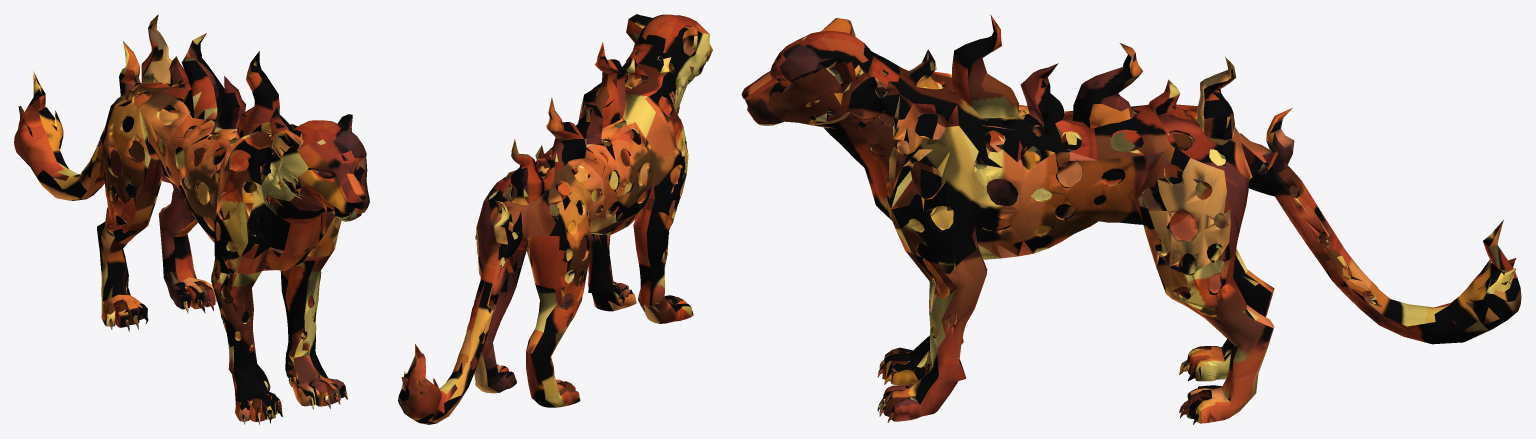
Rendered from creature_cheetah_fire.fbx.
The picture shows the model from 3 angles, left to right: view 1: azimuth 30°, elevation 25°; view 2: azimuth 150°, elevation 25°; view 3: azimuth 270°, elevation 25°; orthographic projection. The views are drawn at different scales.
Visible parts, largest first — view 1: creature_cheetah_fire_body, creature_cheetah_fire_head, creature_cheetah_fire_leg_fl, creature_cheetah_fire_leg_fr, creature_cheetah_fire_leg_br, creature_cheetah_fire_tail, creature_cheetah_fire_leg_bl; view 2: creature_cheetah_fire_body, creature_cheetah_fire_leg_br, creature_cheetah_fire_head, creature_cheetah_fire_tail, creature_cheetah_fire_leg_fr, creature_cheetah_fire_leg_bl, creature_cheetah_fire_leg_fl; view 3: creature_cheetah_fire_body, creature_cheetah_fire_head, creature_cheetah_fire_leg_bl, creature_cheetah_fire_leg_fl, creature_cheetah_fire_tail, creature_cheetah_fire_leg_br, creature_cheetah_fire_leg_fr.
Boxes of the visible parts, x1=… form: creature_cheetah_fire_body: x1=100, y1=14, x2=338, y2=274; creature_cheetah_fire_head: x1=241, y1=114, x2=369, y2=259; creature_cheetah_fire_leg_fl: x1=280, y1=250, x2=347, y2=409; creature_cheetah_fire_leg_fr: x1=205, y1=231, x2=284, y2=424; creature_cheetah_fire_leg_br: x1=28, y1=140, x2=155, y2=331; creature_cheetah_fire_tail: x1=14, y1=71, x2=104, y2=199; creature_cheetah_fire_leg_bl: x1=159, y1=186, x2=216, y2=313; creature_cheetah_fire_body: x1=475, y1=42, x2=688, y2=306; creature_cheetah_fire_leg_br: x1=412, y1=273, x2=586, y2=424; creature_cheetah_fire_head: x1=623, y1=14, x2=712, y2=152; creature_cheetah_fire_tail: x1=398, y1=282, x2=492, y2=420; creature_cheetah_fire_leg_fr: x1=590, y1=195, x2=693, y2=323; creature_cheetah_fire_leg_bl: x1=474, y1=255, x2=523, y2=393; creature_cheetah_fire_leg_fl: x1=588, y1=233, x2=636, y2=311; creature_cheetah_fire_body: x1=879, y1=14, x2=1331, y2=268; creature_cheetah_fire_head: x1=741, y1=18, x2=901, y2=229; creature_cheetah_fire_leg_bl: x1=1157, y1=236, x2=1505, y2=424; creature_cheetah_fire_leg_fl: x1=877, y1=240, x2=1047, y2=422; creature_cheetah_fire_tail: x1=1318, y1=207, x2=1521, y2=332; creature_cheetah_fire_leg_br: x1=1179, y1=249, x2=1274, y2=381; creature_cheetah_fire_leg_fr: x1=877, y1=281, x2=963, y2=385.
Size of the model in its own units: 205 by 554 by 1018.
1 material, 1 textured.
